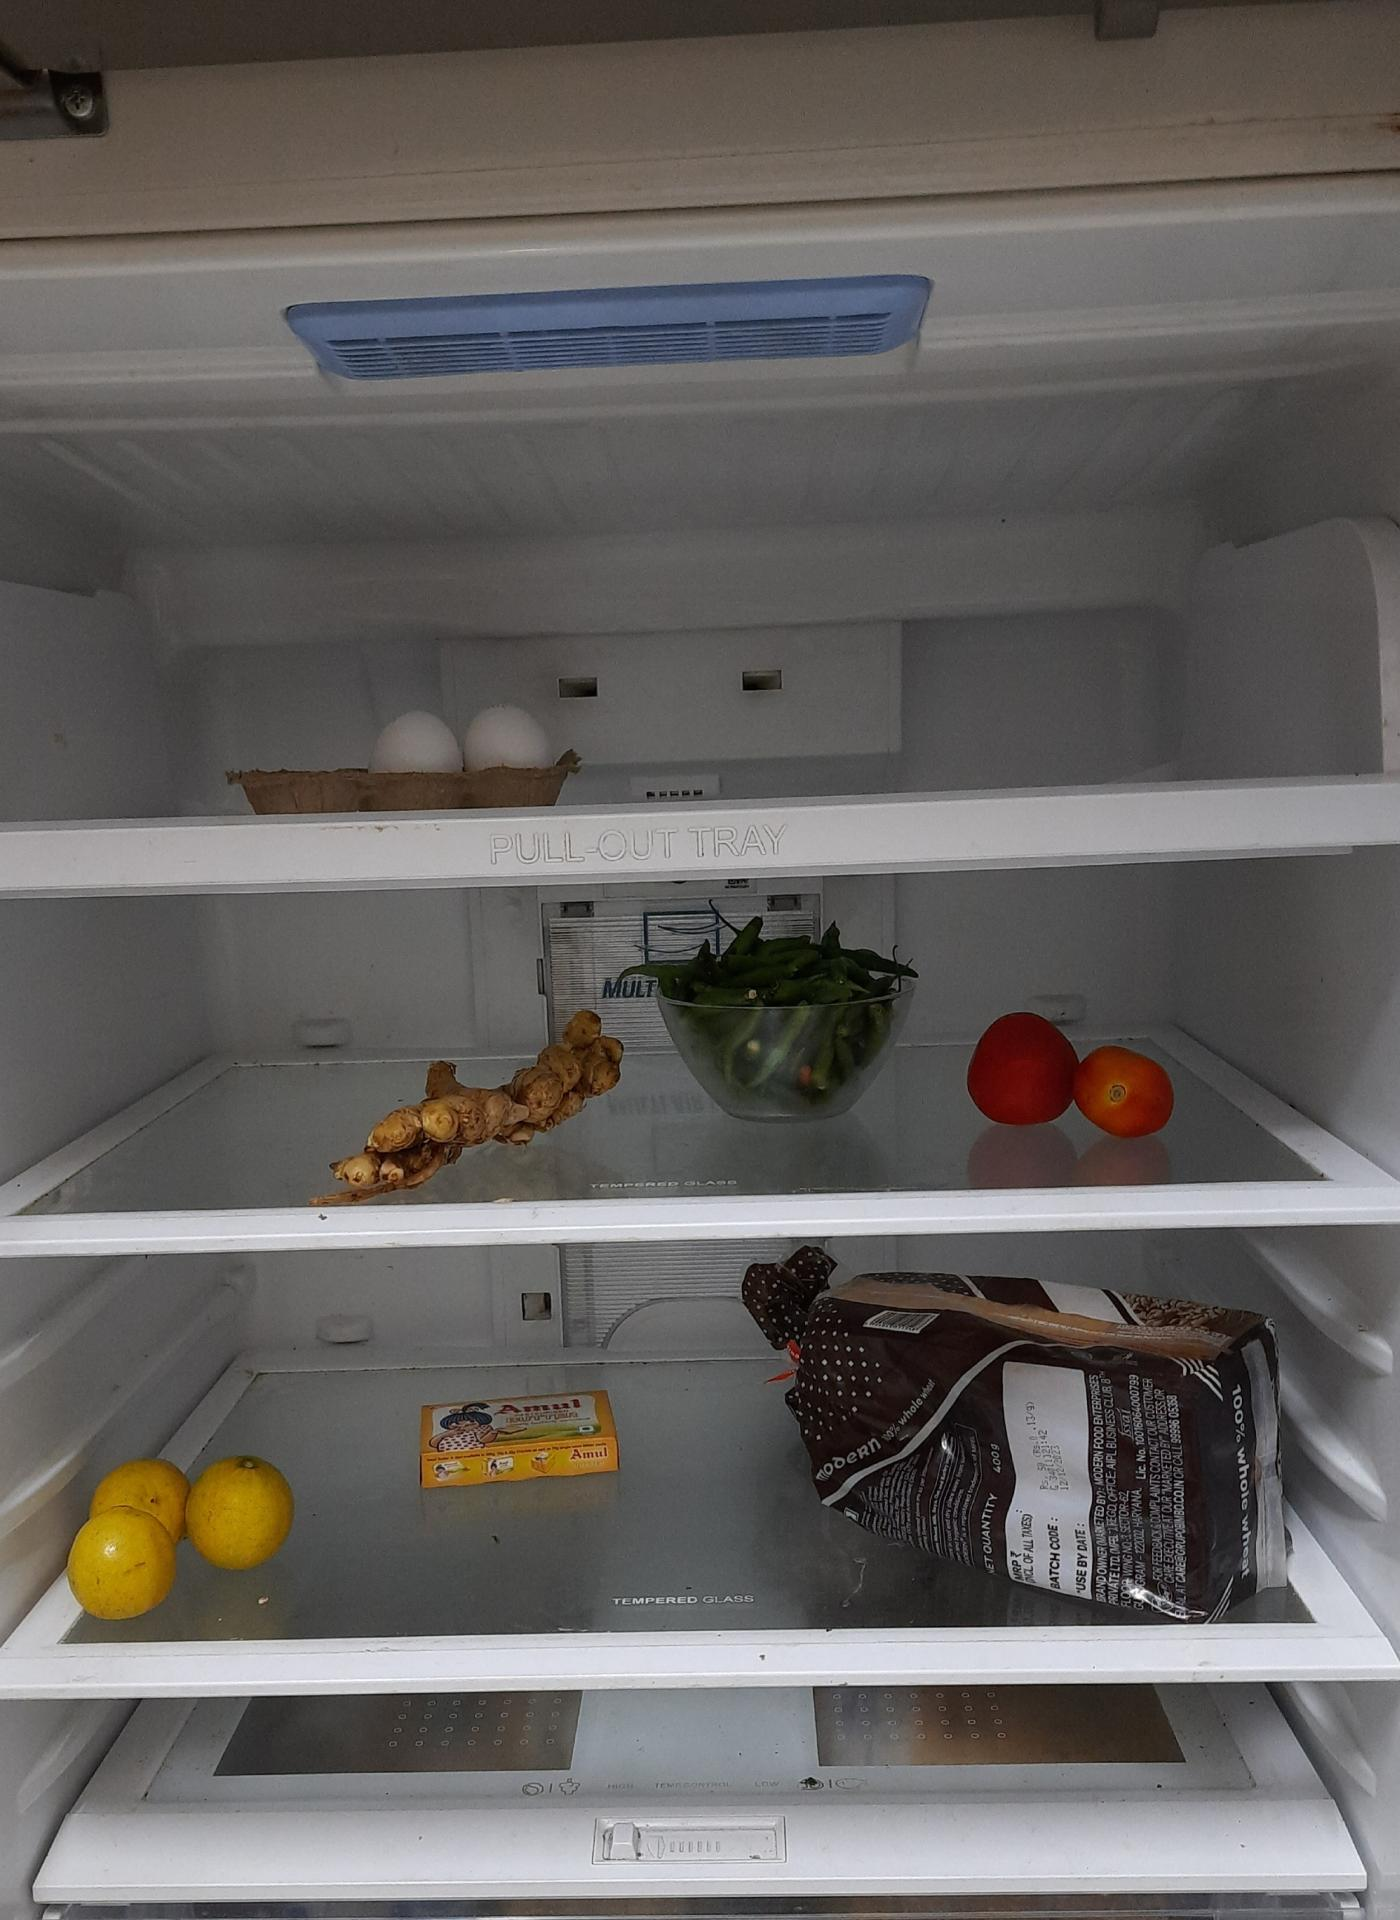bread: (741, 1264, 1278, 1619)
butter: (416, 1394, 620, 1497)
chillies: (658, 926, 906, 1115)
egg: (361, 699, 559, 781)
ginger: (343, 1012, 635, 1200)
lemon: (66, 1450, 294, 1617)
tomato: (971, 1015, 1178, 1139)
